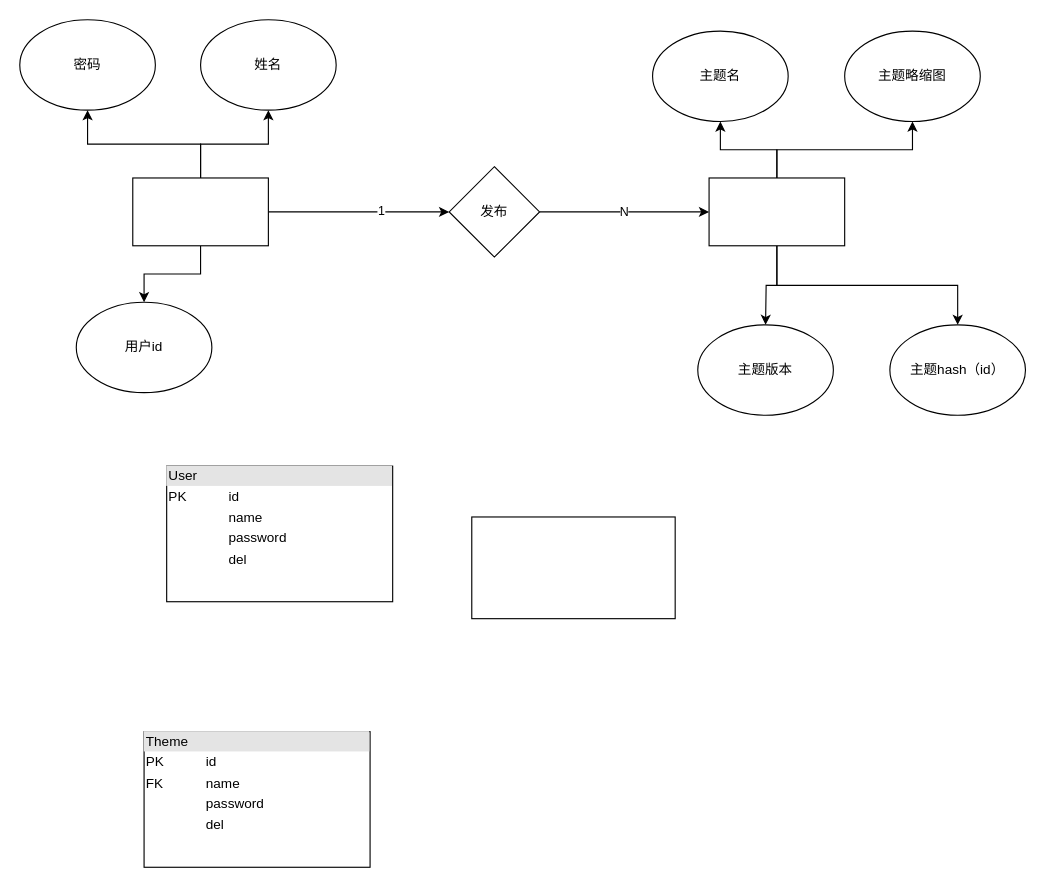
Some shapes in this 1045 by 887 pixel diagram are drawn without their labels. Each missing label, with the centre of its shape:
Tablename PK uniqueId FK1 foreignKey fieldname: [573,567]
主题: [776,211]
用户: [200,211]
